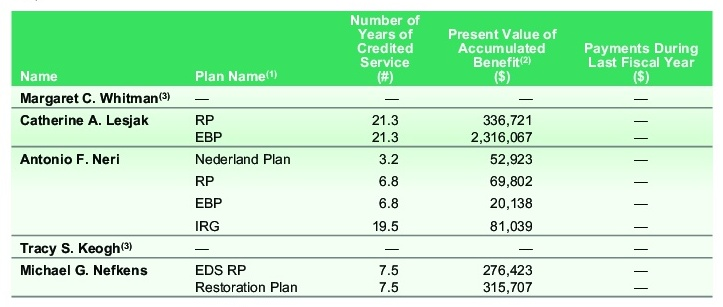table: (0, 0, 723, 307)
